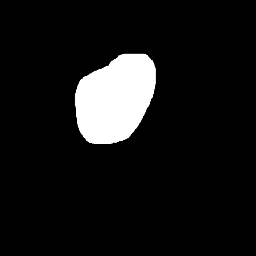mass: (70, 58, 154, 145)
